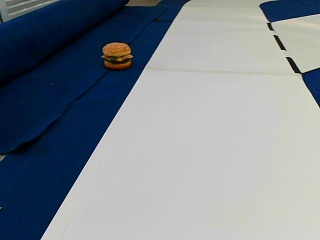burger: (101, 40, 132, 68)
